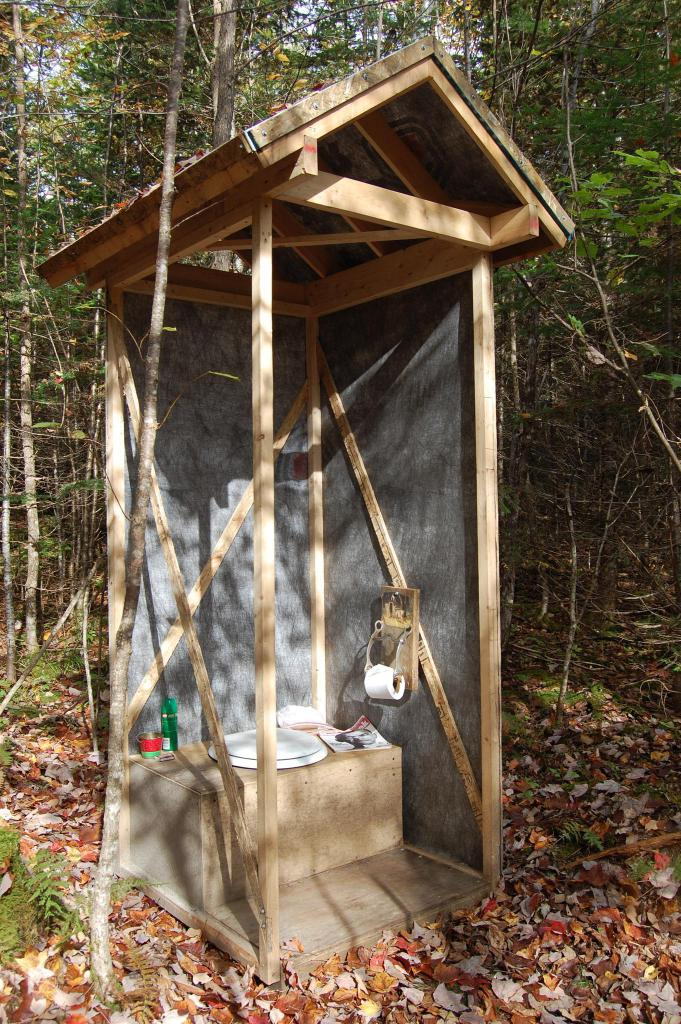Tree: (0, 0, 681, 1005)
